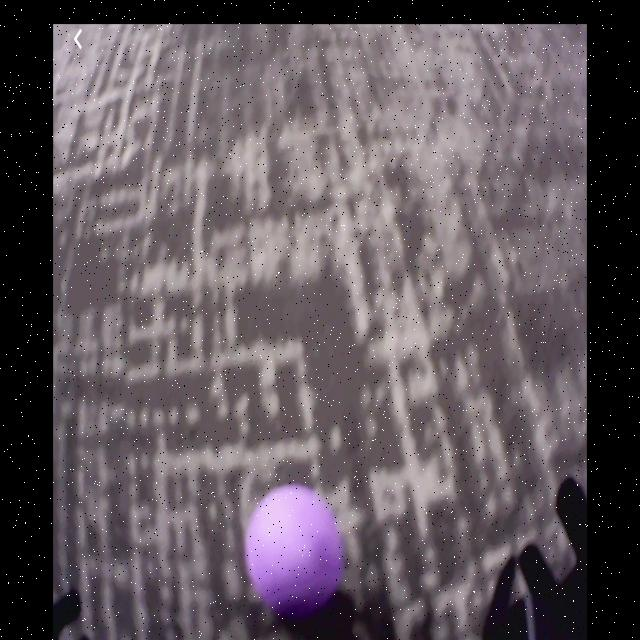ball: (245, 483, 343, 615)
